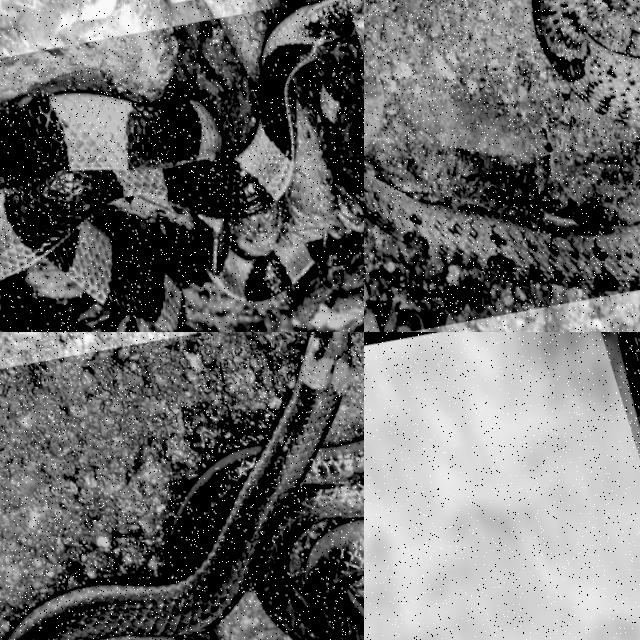Bungarus fasciatus: (0, 0, 351, 331)
Calliophis intestinalis: (7, 332, 363, 639)
Calloselasma rhodostoma: (364, 171, 639, 291)
Naja kaouthia: (616, 332, 639, 426)
snake: (0, 0, 351, 331), (7, 332, 363, 639), (364, 171, 639, 291), (616, 332, 639, 426)
